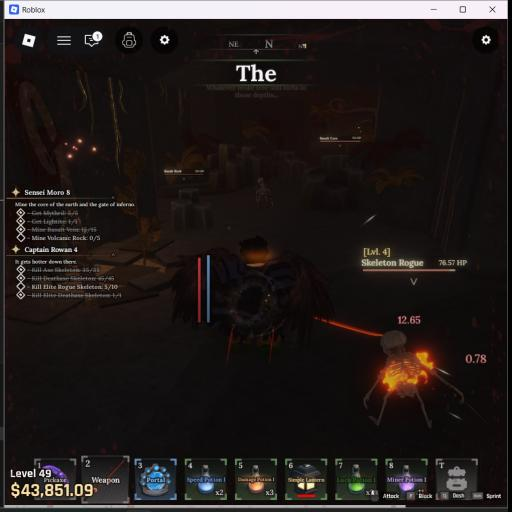player: (172, 236, 334, 358)
rock: (300, 155, 364, 211), (172, 188, 213, 231), (208, 143, 245, 189), (240, 146, 266, 180), (279, 151, 306, 180)
